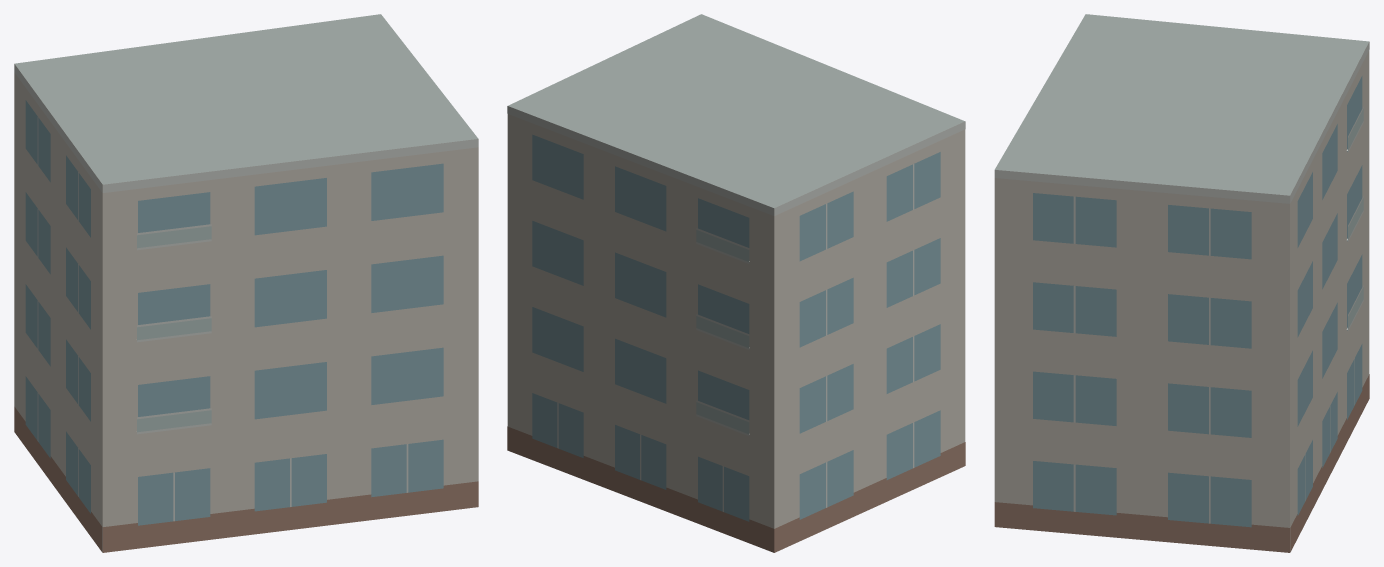
The model's file is survey-upis-32700447.glb.
3 renders of one model, left to right at view 1: azimuth 30°, elevation 25°; view 2: azimuth 150°, elevation 25°; view 3: azimuth 270°, elevation 25°, orthographic. The views are drawn at different scales.
Parts seen in each view (by area): view 1: survey-upis-32700447.tmp; view 2: survey-upis-32700447.tmp; view 3: survey-upis-32700447.tmp.
Part boxes in pixels (left/top/right/bottom): survey-upis-32700447.tmp: left=14, top=14, right=478, bottom=552; survey-upis-32700447.tmp: left=507, top=14, right=965, bottom=552; survey-upis-32700447.tmp: left=994, top=14, right=1369, bottom=552.
Bounding box in the file's own units: 11.63 × 10.65 × 10.14.
